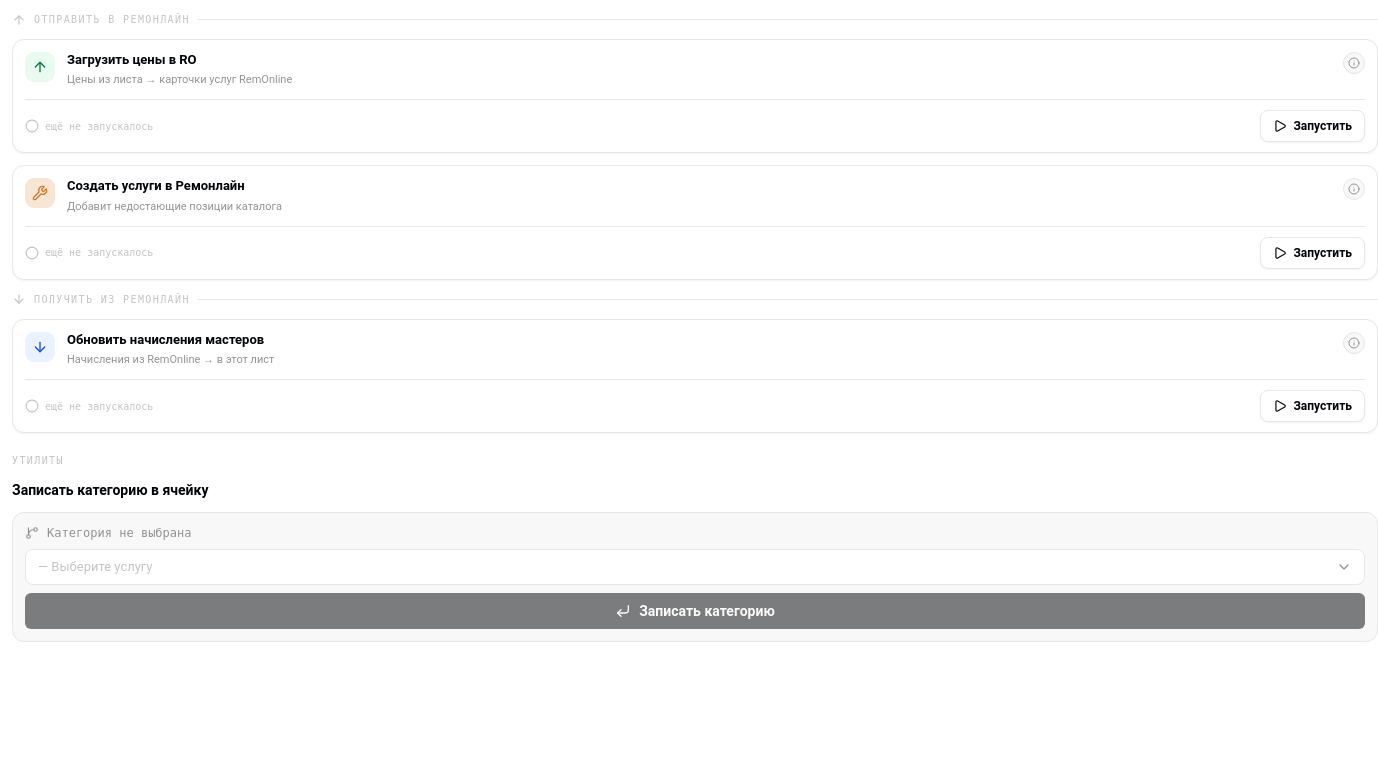
it: RemonlinePanel › FR6: a rejected uploadPricesToRO shows the error banner and no result block
Click the 1st button "Запустить".
click(1313, 126)  # box [1260,110,1365,142]
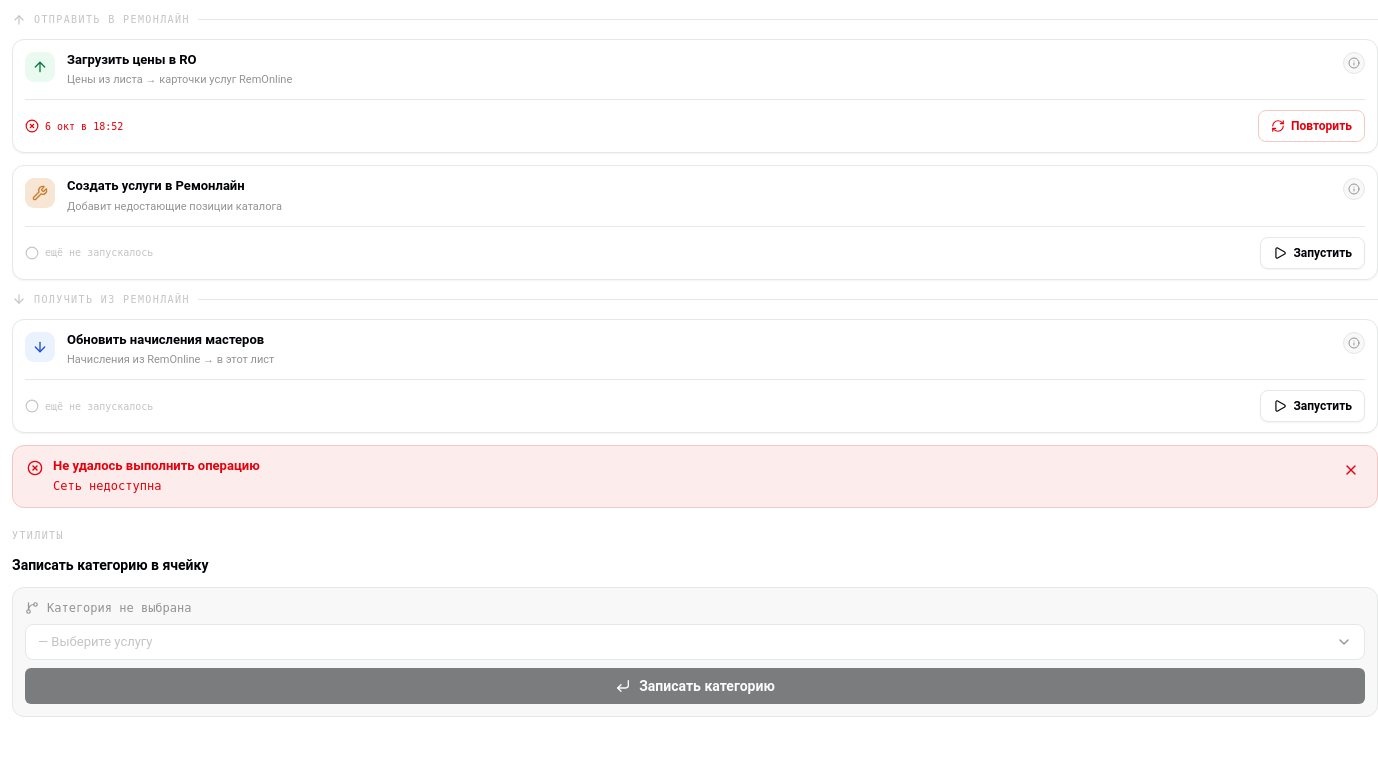
Now the message with test id "ro-error" shows "Сеть недоступна", box [53,479,161,493]
closing the banner does not clear the card's own error
Click the button named "Закрыть".
click(1351, 470)  # box [1339,458,1363,482]
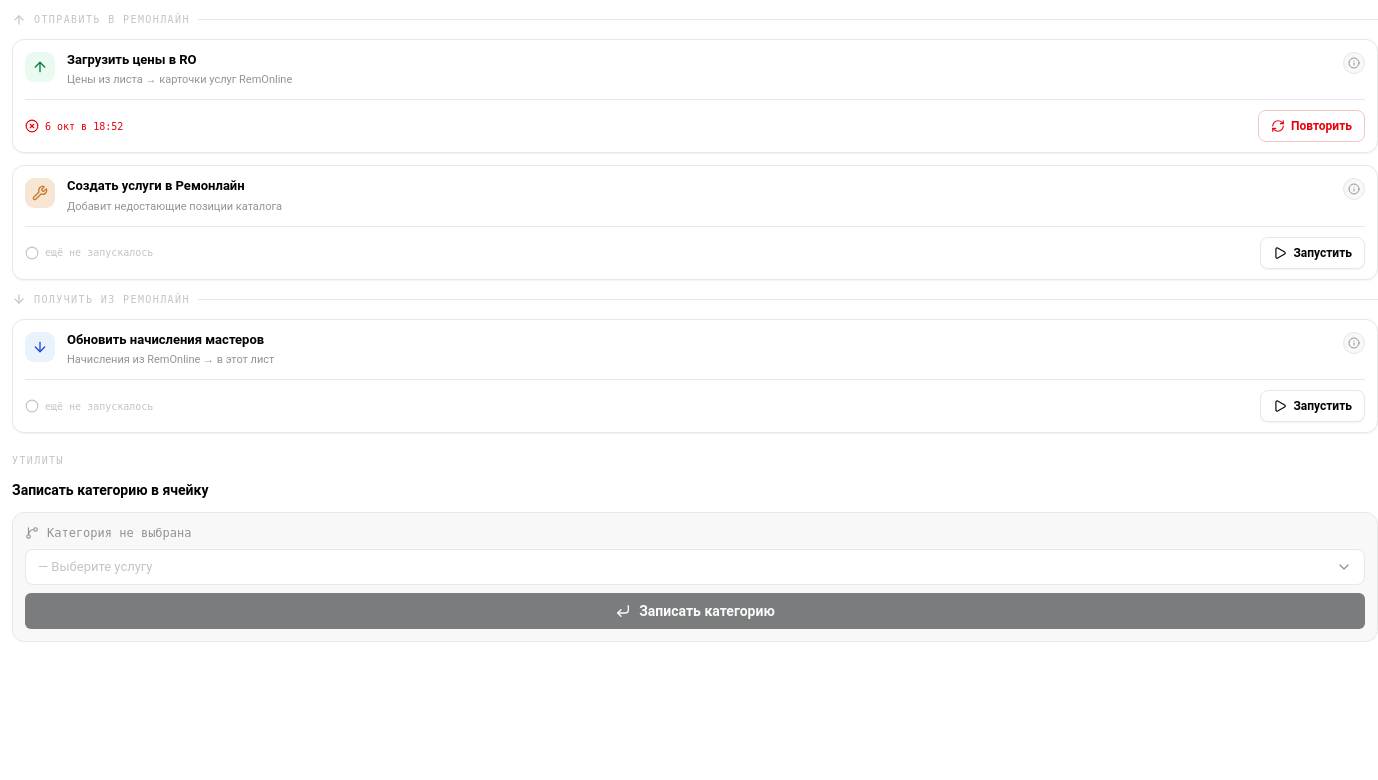
Now the message with test id "ro-error" is gone
